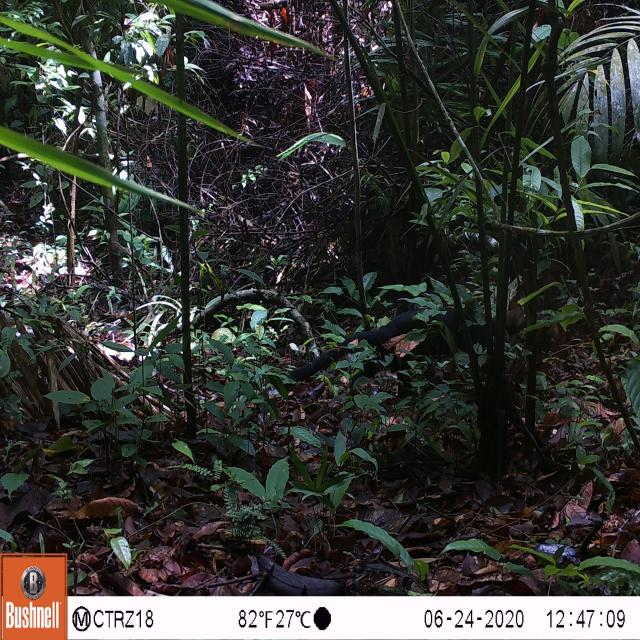Tayra: (296, 293, 527, 383)
